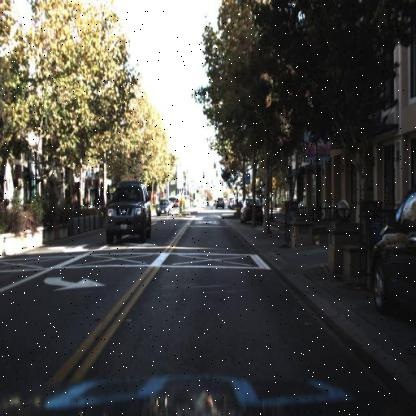car: (370, 183, 415, 332), (102, 178, 154, 244), (105, 181, 152, 244), (239, 194, 262, 228), (153, 196, 173, 217), (214, 192, 226, 214)
